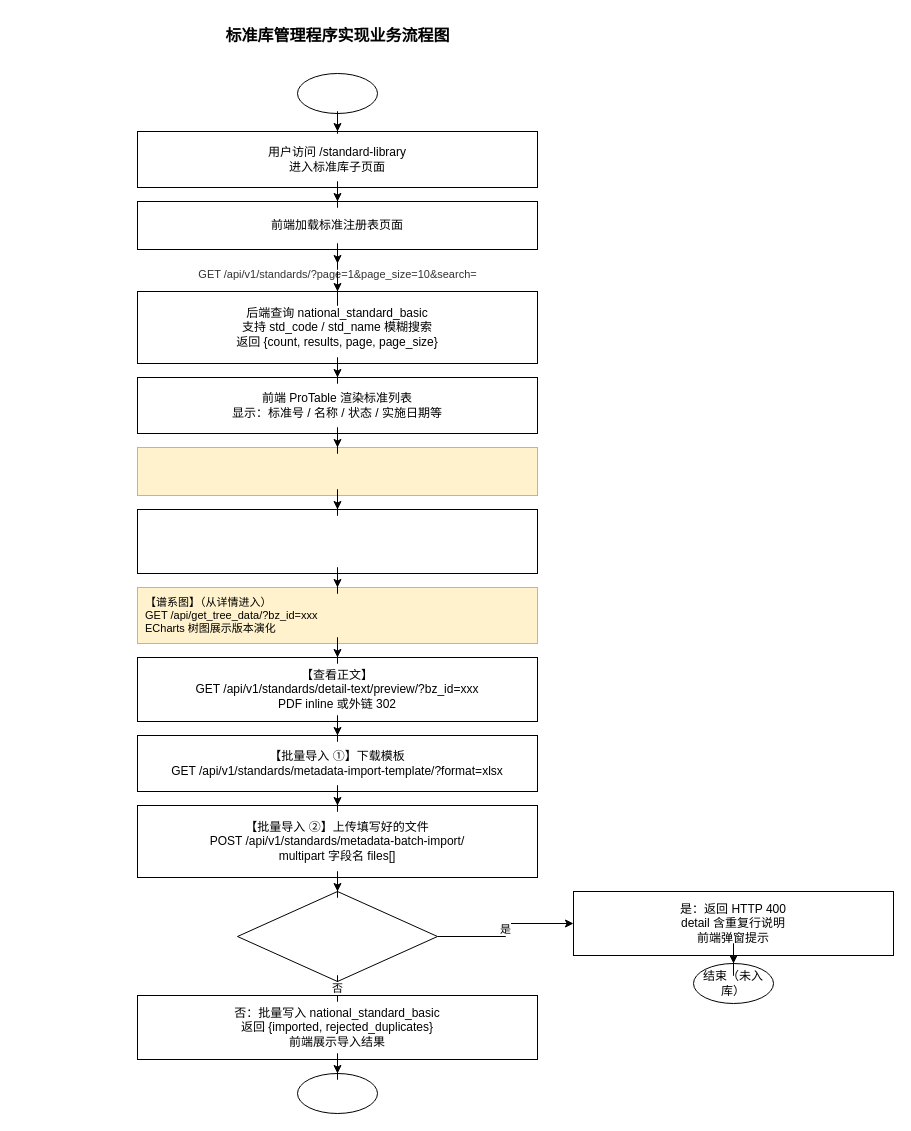
Some shapes in this 911 by 1131 pixel diagram are drawn without their labels. Each missing label, with the box of its shape:
【查看详情】 GET /api/v1/standards/detail-info/?bz_id=xxx 联查 basic + extension，抽屉展示: (136, 508, 538, 574)
存在重复 标准号？: (236, 890, 438, 982)
开始: (296, 72, 378, 114)
用户可选操作（列表页） · 查看详情 · 查看正文 · 批量导入元数据: (136, 446, 538, 496)
结束: (296, 1072, 378, 1114)
